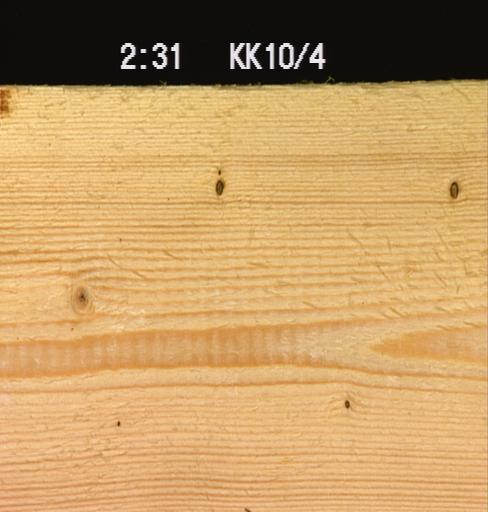dry_knot: (210, 174, 227, 200), (444, 177, 461, 199)
small_knot: (338, 394, 352, 412)
sound_knot: (65, 281, 96, 320)
